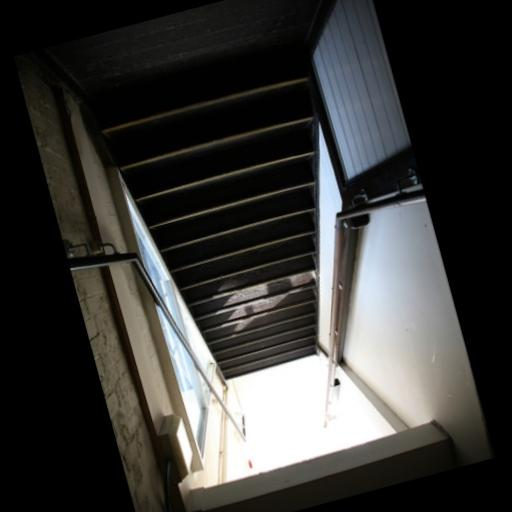stairs: (99, 52, 317, 378)
